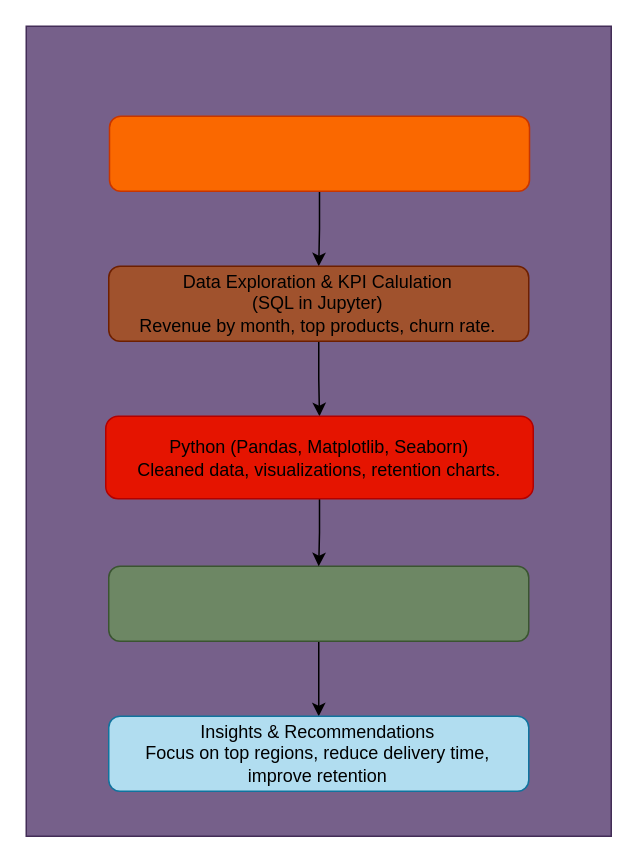
Image size: 638x863. Some labels were removed from this diagram. The shapes that lost their labels are listed below. From the top down, each one's centre as x and y in pixels, then its label:
the point at 319,153: Raw E-Commerce Data (CSV) Colums: sales, customers, products, region, etc.
the point at 318,603: Business KPIs Revenue Growth, Churn %, Product Ratings.
